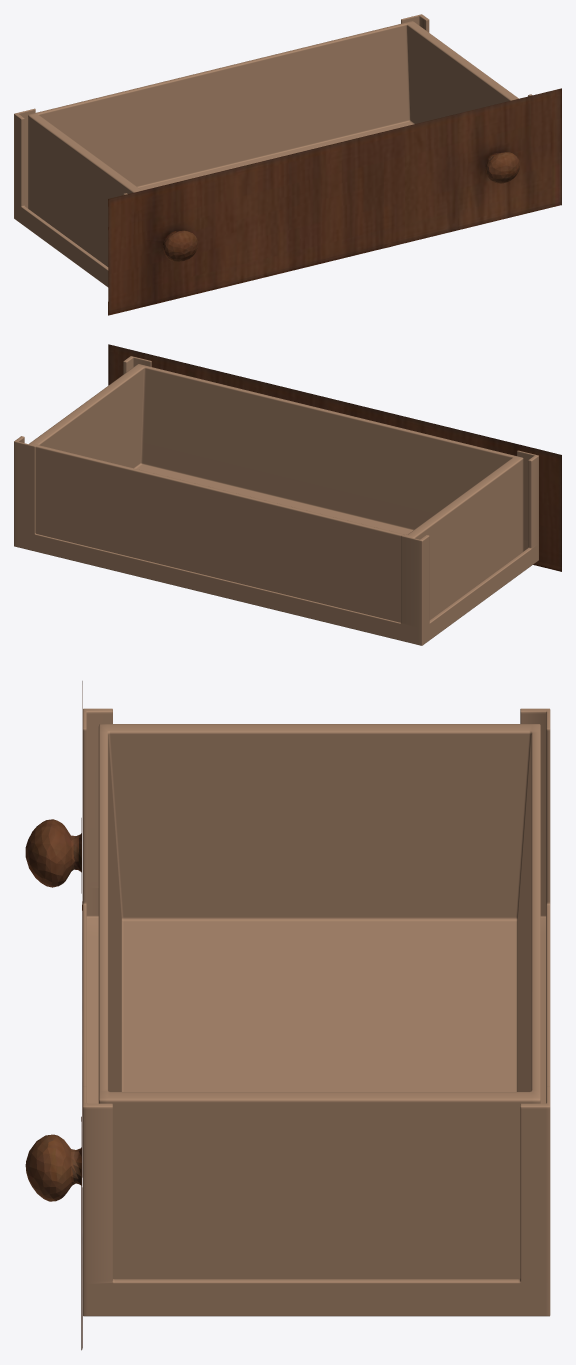
Rendered from drawer_3.glb.
3 views of the same model, one above another, from view 1: azimuth 30°, elevation 25°; view 2: azimuth 150°, elevation 25°; view 3: azimuth 270°, elevation 25° (orthographic). The views are drawn at different scales.
Visible parts, largest first — view 1: source_front_cap_0, prefab_drawer_body_3; view 2: prefab_drawer_body_3, source_front_cap_0; view 3: prefab_drawer_body_3, source_front_cap_0.
Boxes of the visible parts, x1,y1,x2,y2 form: source_front_cap_0: (108, 88, 561, 315); prefab_drawer_body_3: (14, 14, 532, 287); prefab_drawer_body_3: (14, 356, 538, 645); source_front_cap_0: (108, 344, 561, 571); prefab_drawer_body_3: (83, 708, 550, 1316); source_front_cap_0: (25, 681, 82, 1350).
Bounding box in the file's own units: 0.8147 × 0.2005 × 0.408.
Materials: 2 (1 with a texture image).
